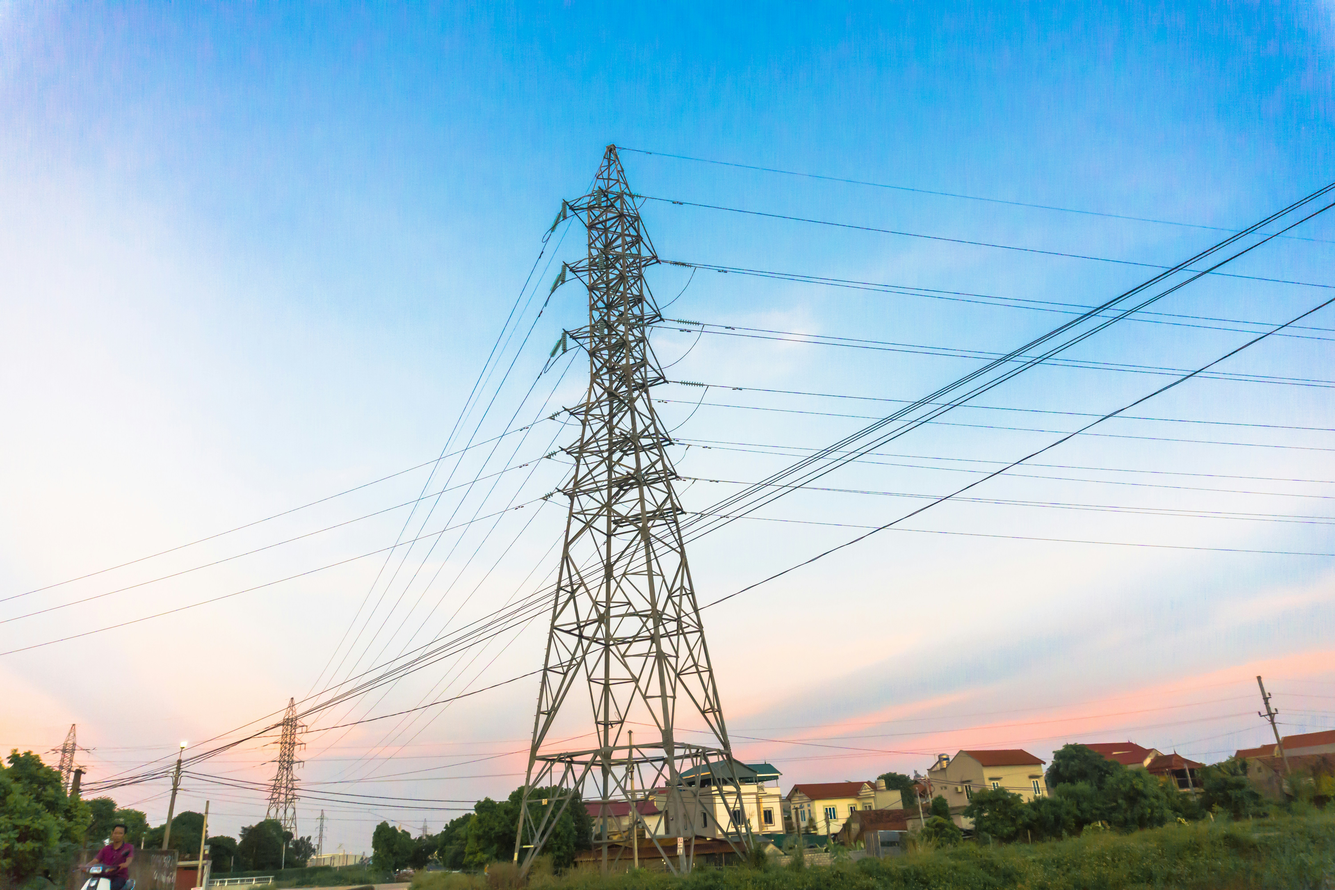insulator: (549, 196, 572, 238), (548, 261, 575, 296), (547, 328, 574, 361), (670, 377, 718, 392), (662, 257, 700, 272), (669, 315, 707, 330)
